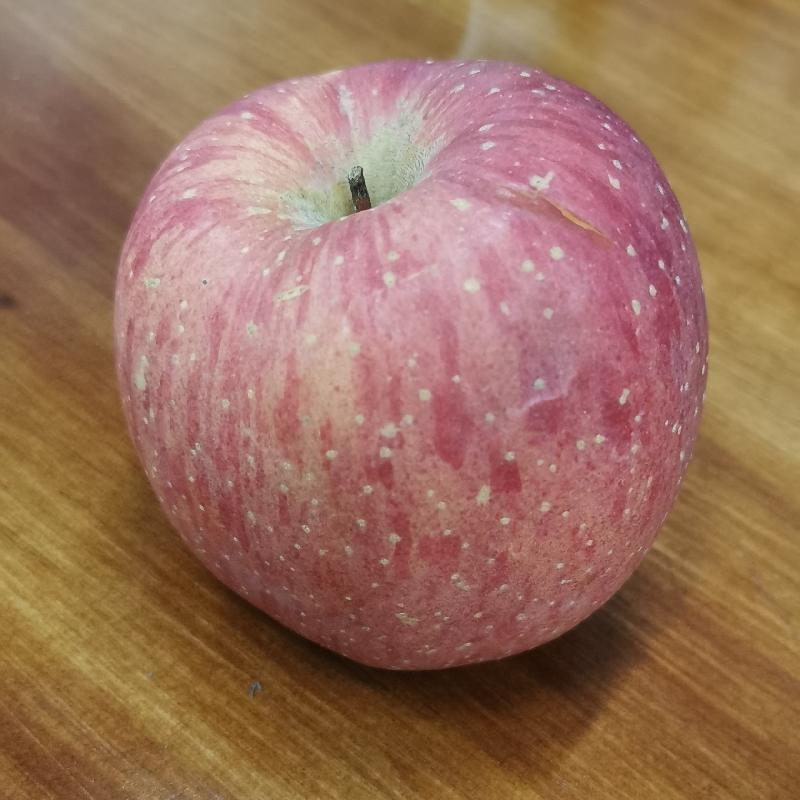apples: (106, 50, 713, 676)
